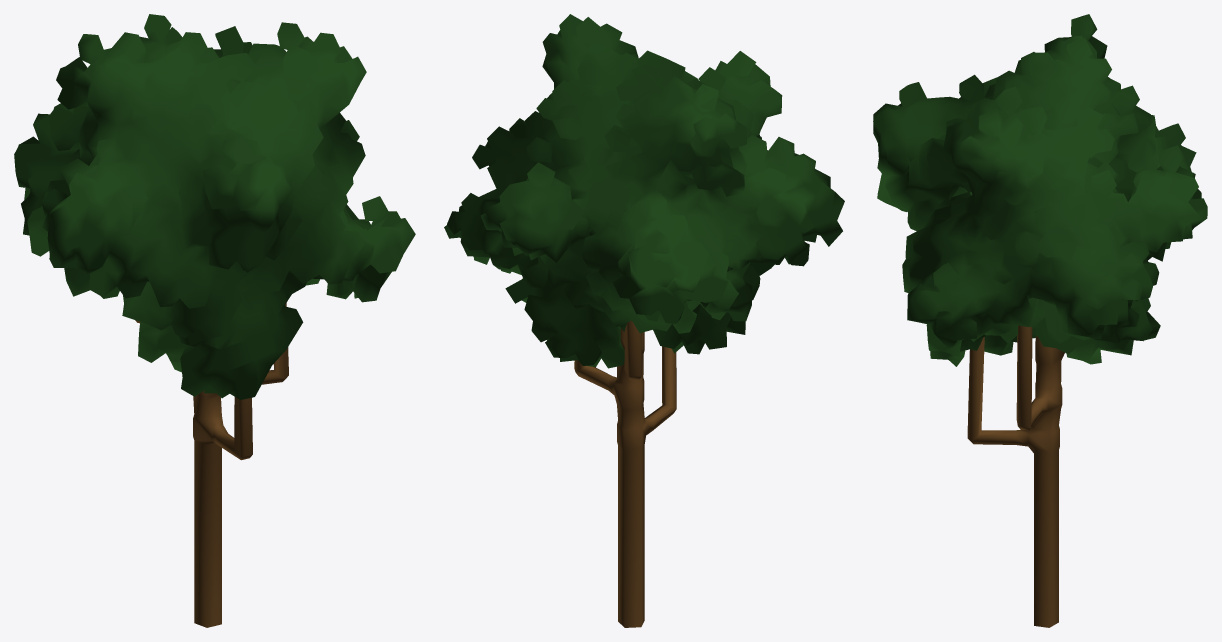
Rendered from tree.glb.
The picture shows the model from 3 angles, left to right: view 1: azimuth 30°, elevation 25°; view 2: azimuth 150°, elevation 25°; view 3: azimuth 270°, elevation 25°; orthographic projection. The views are drawn at different scales.
Parts seen in each view (by area): view 1: Foliage; view 2: Foliage; view 3: Foliage.
Part boxes in pixels (x1,y1,x2,y2): Foliage: (14, 14, 415, 627); Foliage: (444, 14, 844, 627); Foliage: (873, 14, 1207, 627).
Bounding box in the file's own units: 2.8 × 4.66 × 2.49.
